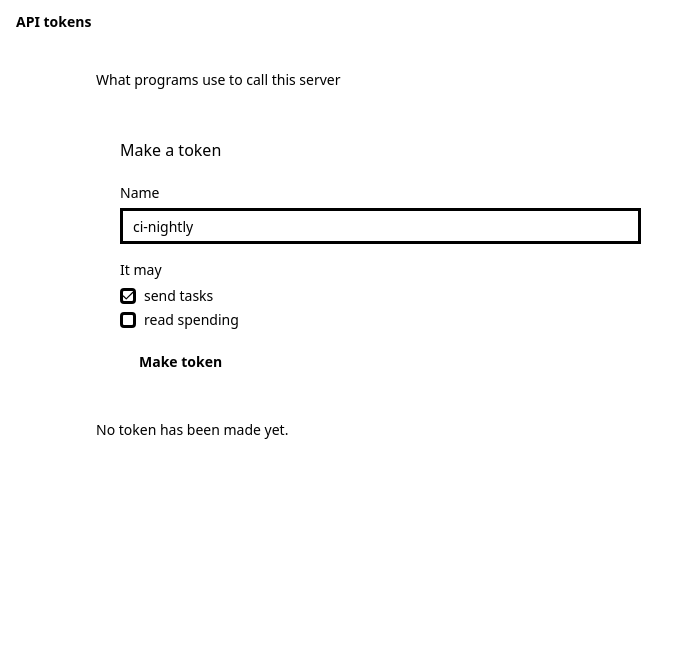
Test: API tokens › makes a token in the page and shows its secret there, never in an address
Type "nightly" into the field labelled "Name" at {"x": 380, "y": 226}, box [120, 208, 640, 244]
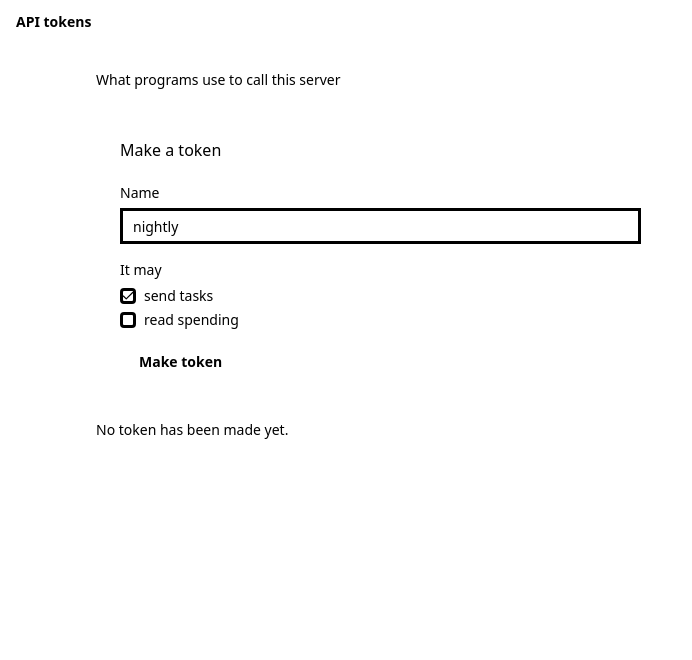
Click the button "Make token" at {"x": 181, "y": 362}, box [120, 344, 241, 380]
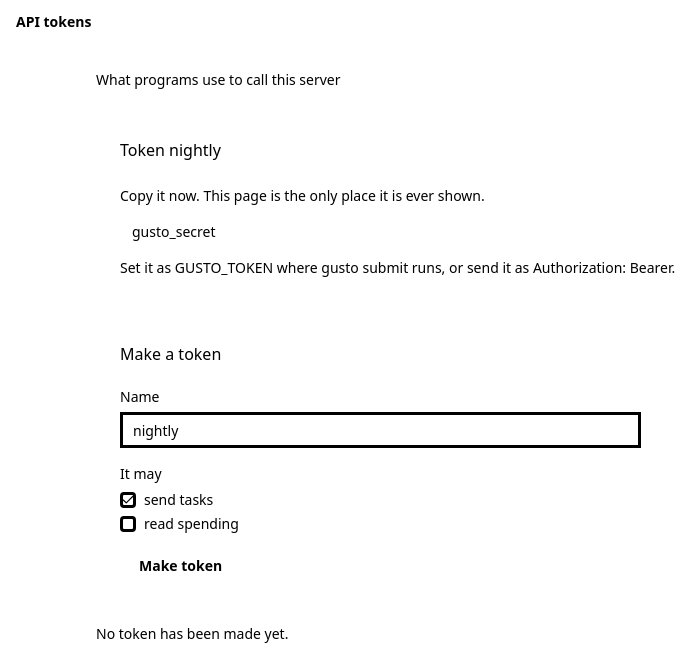
Expected: the text "gusto_secret" is shown, [132, 222, 216, 241]
